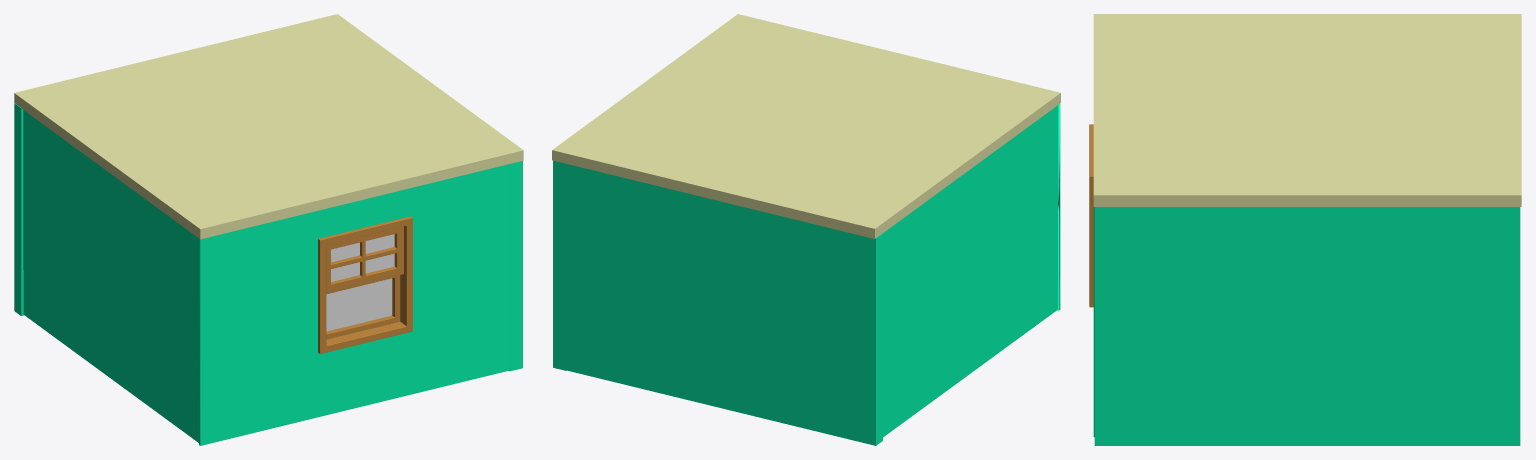
Rendered from house 1.fbx.
3 renders of one model, left to right at view 1: azimuth 30°, elevation 25°; view 2: azimuth 150°, elevation 25°; view 3: azimuth 270°, elevation 25°, orthographic. The views are drawn at different scales.
Parts seen in each view (by area): view 1: Ceiling, Wall, Wall.003, Window, Wall.002, Wall.001; view 2: Wall.001, Ceiling, Wall.003, Wall.002, Wall; view 3: Wall.002, Ceiling, Window, Wall.
Part boxes in pixels (x1,y1,x2,y2): Ceiling: [14, 14, 523, 239]; Wall: [199, 164, 510, 445]; Wall.003: [23, 110, 198, 442]; Window: [318, 216, 412, 353]; Wall.002: [509, 161, 522, 371]; Wall.001: [14, 103, 23, 315]; Wall.001: [563, 163, 882, 445]; Ceiling: [552, 14, 1060, 238]; Wall.003: [883, 105, 1057, 437]; Wall.002: [553, 160, 566, 370]; Wall: [1057, 103, 1060, 310]; Wall.002: [1094, 207, 1520, 445]; Ceiling: [1093, 14, 1521, 206]; Window: [1089, 124, 1093, 307]; Wall: [1093, 207, 1094, 436].
Size of the model in its own units: 873 by 562 by 878.
